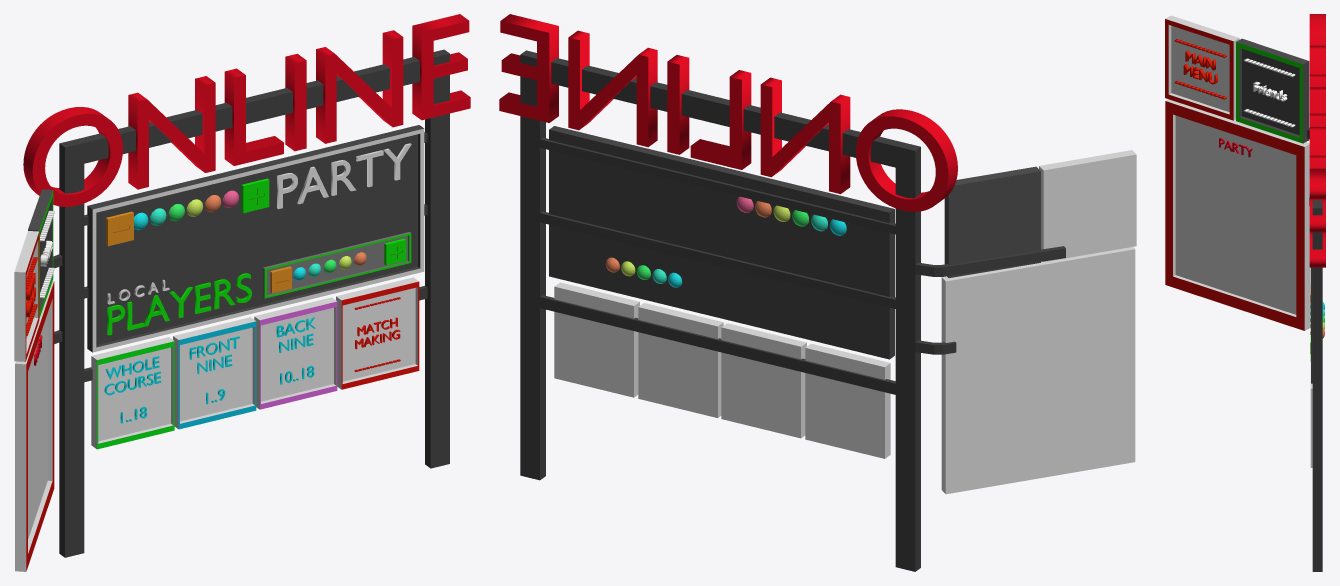
The model's file is menu_online.glb.
The picture shows the model from 3 angles, left to right: view 1: azimuth 30°, elevation 25°; view 2: azimuth 150°, elevation 25°; view 3: azimuth 270°, elevation 25°; orthographic projection. The views are drawn at different scales.
Visible parts, largest first — view 1: Cube, sign_body, online, friends_board, map_set_front_nine_board, map_set_whole_course_board, match_making_board, map_set_back_nine_board, player_count_border, main_menu_board, players_text, Text (+9 smaller); view 2: Cube, friends_board, sign_body, online, main_menu_board, playstyle_selection_board, map_set_whole_course_board, match_making_board, map_set_front_nine_board, map_set_back_nine_board; view 3: friends_board, playstyle_selection_board, main_menu_board, online, sign_body, main_menu_text, playstyle_selection_text, match_making_board, friends_text, Cube.
Part boxes in pixels (<box>): Cube: <box>87,125,424,352</box>; sign_body: <box>53,49,449,557</box>; online: <box>23,14,470,206</box>; friends_board: <box>15,281,54,571</box>; map_set_front_nine_board: <box>173,317,256,429</box>; map_set_whole_course_board: <box>91,337,174,449</box>; match_making_board: <box>336,277,419,389</box>; map_set_back_nine_board: <box>254,297,337,409</box>; player_count_border: <box>263,232,411,298</box>; main_menu_board: <box>14,231,39,361</box>; players_text: <box>107,273,251,335</box>; Text: <box>277,143,411,209</box>; Cube: <box>549,126,894,359</box>; friends_board: <box>941,247,1135,494</box>; sign_body: <box>520,50,1065,571</box>; online: <box>499,14,957,211</box>; main_menu_board: <box>1039,150,1136,261</box>; playstyle_selection_board: <box>944,166,1040,277</box>; map_set_whole_course_board: <box>805,343,890,458</box>; match_making_board: <box>554,282,639,397</box>; map_set_front_nine_board: <box>721,323,806,438</box>; map_set_back_nine_board: <box>638,303,723,417</box>; friends_board: <box>1165,99,1310,330</box>; playstyle_selection_board: <box>1236,38,1309,143</box>; main_menu_board: <box>1165,15,1239,120</box>; online: <box>1309,14,1325,267</box>; sign_body: <box>1307,128,1322,571</box>; main_menu_text: <box>1174,39,1226,99</box>; playstyle_selection_text: <box>1243,58,1295,127</box>; match_making_board: <box>1310,362,1312,467</box>; friends_text: <box>1219,138,1252,157</box>; Cube: <box>1311,267,1312,383</box>.
Bounding box in the file's own units: 53.43 × 42.2 × 15.72.
